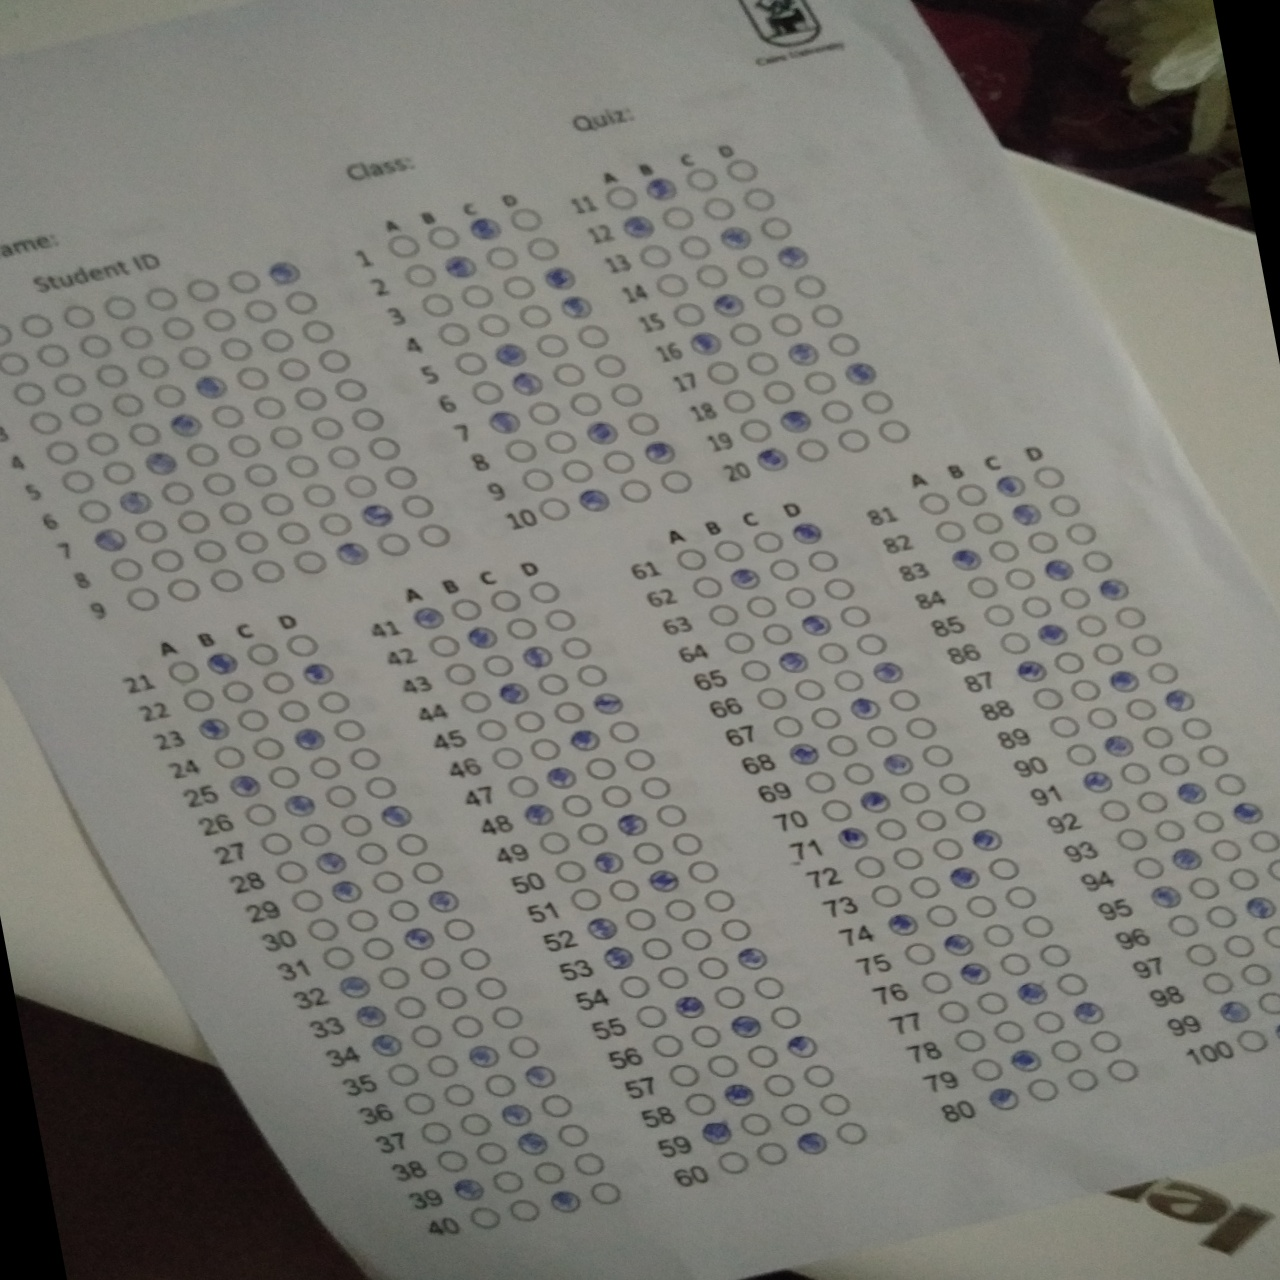not-c: (325, 444, 367, 474), (257, 491, 299, 520), (231, 529, 273, 558), (270, 858, 312, 887), (350, 839, 393, 869), (373, 964, 415, 993), (389, 993, 431, 1022), (572, 662, 614, 692), (422, 223, 464, 252), (383, 232, 425, 261), (738, 185, 781, 215), (767, 712, 809, 741), (886, 844, 928, 873), (915, 968, 958, 998), (988, 1017, 1030, 1047), (1028, 1008, 1070, 1037), (223, 268, 266, 297), (108, 392, 151, 420), (464, 1204, 508, 1232), (604, 877, 647, 905), (531, 670, 574, 699), (476, 652, 519, 680), (721, 157, 764, 185), (670, 545, 714, 573), (908, 806, 952, 835), (849, 853, 892, 881), (965, 1057, 1008, 1085), (290, 549, 331, 578), (282, 632, 324, 661), (433, 983, 474, 1013), (656, 203, 697, 232), (779, 584, 821, 613), (816, 796, 857, 825), (949, 797, 990, 826), (1023, 1076, 1064, 1105), (183, 277, 225, 305), (116, 324, 158, 352), (33, 342, 75, 370), (48, 370, 90, 399), (131, 353, 173, 381), (148, 382, 190, 410), (64, 400, 107, 428), (25, 410, 67, 438), (81, 429, 123, 457), (124, 421, 166, 449), (379, 464, 421, 492), (341, 474, 383, 502), (306, 414, 348, 442), (266, 424, 308, 452), (224, 431, 266, 459), (57, 469, 100, 497), (72, 498, 114, 526), (156, 479, 198, 508), (197, 471, 239, 499), (280, 452, 322, 481), (298, 481, 340, 509), (131, 518, 173, 546), (314, 510, 356, 538), (372, 531, 414, 559), (162, 576, 204, 604), (122, 585, 164, 613), (162, 658, 204, 686), (177, 687, 219, 715), (239, 801, 281, 829), (219, 679, 261, 707), (241, 641, 284, 669), (258, 669, 300, 697), (273, 697, 315, 726), (313, 688, 355, 716), (286, 887, 328, 915), (301, 915, 343, 944), (382, 897, 424, 925), (414, 955, 456, 983), (486, 1005, 529, 1033), (503, 1033, 545, 1061), (421, 1051, 463, 1080), (535, 1091, 577, 1119), (486, 1167, 529, 1196), (505, 1197, 547, 1225), (585, 1179, 627, 1207), (713, 1149, 755, 1177), (646, 1032, 688, 1060), (631, 1003, 673, 1032), (651, 965, 693, 993), (748, 975, 790, 1003), (741, 1043, 783, 1071), (659, 897, 701, 925), (635, 934, 678, 962), (621, 907, 663, 935), (627, 839, 669, 867), (557, 634, 599, 662), (509, 708, 551, 736), (456, 689, 498, 717), (535, 496, 577, 524), (624, 411, 666, 440), (572, 324, 614, 352), (433, 321, 475, 349), (472, 312, 515, 340), (457, 282, 499, 311), (416, 291, 458, 319), (399, 263, 441, 291), (481, 245, 523, 273), (505, 206, 547, 234), (674, 233, 716, 261), (806, 302, 849, 331), (734, 417, 776, 445), (857, 388, 899, 416), (832, 427, 874, 455), (763, 556, 805, 584), (687, 573, 729, 601), (702, 601, 744, 629), (717, 629, 760, 658), (850, 631, 892, 659), (751, 685, 794, 713), (821, 731, 863, 760), (837, 760, 879, 788), (871, 815, 913, 843), (904, 874, 946, 903), (971, 989, 1013, 1017), (1085, 1028, 1128, 1056), (1046, 1039, 1088, 1067), (1061, 1067, 1103, 1095), (1102, 1057, 1144, 1085), (967, 510, 1009, 538), (250, 736, 293, 763), (445, 1012, 489, 1039), (522, 579, 565, 606), (872, 418, 915, 445), (804, 704, 847, 731), (98, 295, 139, 324), (8, 380, 49, 408), (175, 343, 216, 372), (207, 402, 248, 430), (331, 377, 372, 406), (365, 435, 406, 463), (182, 441, 223, 469), (239, 462, 280, 490), (173, 509, 215, 537), (147, 547, 188, 576), (189, 538, 230, 566), (273, 520, 314, 549), (414, 522, 455, 550), (233, 707, 274, 735), (329, 717, 370, 745), (407, 859, 448, 887), (343, 908, 384, 937), (358, 935, 399, 964), (316, 945, 358, 973), (455, 946, 496, 974), (471, 975, 512, 1003), (433, 1148, 474, 1176), (529, 1159, 570, 1187), (709, 983, 750, 1012), (765, 1005, 806, 1033), (676, 926, 717, 954), (699, 887, 740, 915), (715, 915, 756, 944), (565, 886, 606, 914), (551, 858, 592, 886), (683, 858, 724, 886), (636, 774, 678, 802), (535, 829, 576, 857), (619, 747, 660, 775), (602, 719, 644, 747), (501, 614, 542, 642), (549, 697, 590, 726), (440, 660, 481, 688), (425, 633, 467, 661), (542, 430, 583, 458), (615, 477, 656, 505), (588, 353, 629, 381), (522, 236, 563, 264), (601, 184, 642, 212), (682, 166, 723, 195), (699, 195, 740, 223), (692, 261, 733, 290), (789, 274, 830, 302), (815, 397, 856, 425), (791, 437, 832, 465), (709, 537, 750, 565), (741, 593, 782, 621), (758, 621, 799, 649), (813, 640, 855, 668), (799, 769, 840, 797), (933, 769, 974, 797), (928, 836, 969, 864), (1035, 942, 1076, 971), (933, 999, 974, 1027), (948, 1027, 989, 1055), (1029, 464, 1070, 492), (57, 304, 100, 331), (139, 287, 182, 314), (74, 333, 116, 360), (297, 318, 339, 345), (314, 347, 356, 374), (231, 365, 273, 392), (40, 440, 82, 467), (290, 386, 332, 413), (345, 406, 387, 433), (397, 493, 440, 520), (215, 501, 257, 527), (207, 743, 250, 770), (343, 745, 386, 772), (361, 774, 403, 801), (321, 784, 363, 811), (304, 755, 346, 782), (368, 869, 410, 896), (438, 915, 481, 942), (382, 1061, 424, 1088), (415, 1121, 457, 1148), (471, 1141, 513, 1167), (568, 1151, 611, 1178), (614, 974, 656, 1001), (701, 1053, 743, 1080), (595, 783, 638, 810), (572, 821, 614, 847), (540, 607, 583, 634), (524, 736, 566, 763), (579, 755, 621, 782), (595, 449, 638, 476), (566, 392, 608, 418), (522, 399, 564, 425), (467, 380, 509, 407), (635, 241, 678, 268), (754, 215, 796, 241), (651, 271, 693, 298), (668, 301, 710, 328), (749, 282, 791, 309), (741, 350, 783, 377), (717, 389, 760, 416), (747, 530, 789, 557), (801, 549, 843, 576), (819, 576, 862, 602), (734, 658, 776, 685), (788, 676, 830, 703), (885, 687, 927, 714), (917, 744, 959, 771), (866, 884, 908, 911), (985, 855, 1027, 881), (1000, 884, 1042, 911), (899, 941, 941, 968), (978, 922, 1020, 949), (1016, 914, 1058, 941), (994, 952, 1036, 979), (951, 483, 993, 510), (692, 955, 731, 983), (515, 302, 554, 331), (1046, 492, 1085, 520), (281, 288, 322, 315), (241, 298, 282, 325), (200, 306, 241, 333), (159, 316, 200, 343), (91, 365, 132, 392), (215, 336, 256, 363), (257, 328, 298, 355), (273, 356, 314, 383), (248, 395, 290, 422), (97, 459, 138, 486), (105, 556, 147, 583), (248, 557, 290, 584), (206, 567, 247, 594), (256, 832, 297, 859), (295, 822, 336, 849), (264, 764, 305, 791), (336, 813, 377, 840), (392, 830, 433, 857), (406, 1023, 447, 1050), (399, 1090, 440, 1117), (438, 1082, 479, 1109), (481, 1073, 522, 1099), (454, 1111, 495, 1138), (552, 1122, 593, 1149), (751, 1141, 792, 1167), (735, 1112, 776, 1139), (679, 1091, 720, 1118), (663, 1062, 704, 1089), (685, 1024, 726, 1051), (799, 1063, 840, 1090), (813, 1091, 855, 1118), (775, 1102, 816, 1129), (830, 1121, 871, 1148), (666, 831, 707, 858), (651, 802, 692, 829), (556, 792, 597, 819), (485, 588, 526, 615), (485, 745, 526, 772), (472, 716, 513, 743), (445, 597, 486, 624), (502, 772, 543, 799), (517, 467, 558, 493), (502, 438, 543, 465), (556, 457, 597, 484), (655, 468, 696, 495), (607, 382, 648, 409), (549, 362, 590, 389), (533, 332, 574, 359), (451, 350, 492, 377), (498, 275, 539, 302), (731, 252, 772, 279), (765, 312, 806, 339), (726, 321, 767, 348), (701, 359, 742, 386), (823, 331, 864, 358), (799, 369, 840, 396), (758, 379, 799, 406), (835, 602, 876, 629), (828, 667, 869, 694), (900, 714, 941, 741), (860, 724, 901, 751), (896, 779, 937, 806), (960, 894, 1001, 921), (922, 904, 964, 931), (1051, 972, 1092, 999), (913, 491, 954, 518), (930, 519, 971, 546), (18, 313, 57, 340), (760, 1073, 799, 1099), (1126, 632, 1166, 659), (1065, 678, 1105, 704), (1211, 771, 1251, 798), (1189, 809, 1228, 836), (1207, 837, 1247, 864), (1197, 971, 1237, 998), (1001, 566, 1040, 593), (964, 574, 1002, 601), (979, 602, 1017, 629), (1016, 593, 1055, 620), (1054, 584, 1092, 611), (1111, 604, 1150, 631), (1073, 612, 1111, 639), (996, 629, 1035, 656), (1088, 641, 1126, 668), (1155, 751, 1193, 778), (1133, 790, 1172, 817), (1096, 798, 1135, 825), (1150, 818, 1189, 845), (1129, 855, 1167, 881), (1184, 874, 1223, 901), (983, 539, 1023, 565), (1193, 744, 1233, 770), (1201, 904, 1241, 930), (1237, 964, 1276, 989), (1078, 549, 1116, 576), (1062, 742, 1099, 769), (1117, 760, 1155, 787), (1233, 1027, 1271, 1054), (1024, 530, 1063, 556), (1049, 651, 1088, 676), (1144, 660, 1183, 686), (1029, 687, 1068, 713), (1044, 715, 1083, 741), (1121, 697, 1159, 723), (1137, 726, 1176, 751), (1224, 867, 1262, 893), (1163, 914, 1201, 940), (1182, 942, 1220, 968), (1220, 934, 1259, 960), (1062, 520, 1099, 546), (1083, 706, 1121, 731), (1178, 716, 1216, 742), (1114, 826, 1151, 852), (1246, 829, 1280, 856), (1, 350, 34, 377), (1254, 989, 1280, 1016), (1, 321, 18, 348)
taken-c: (981, 1085, 1024, 1114), (573, 486, 615, 515), (751, 445, 794, 474), (695, 1121, 738, 1148), (408, 605, 451, 632), (164, 413, 206, 440), (298, 661, 340, 688), (287, 726, 329, 753), (423, 888, 465, 915), (399, 926, 441, 953), (333, 974, 375, 1001), (449, 1177, 491, 1204), (545, 1189, 587, 1216), (731, 946, 774, 973), (597, 946, 639, 973), (588, 849, 631, 876), (540, 765, 583, 792), (563, 727, 605, 754), (587, 692, 629, 719), (493, 680, 536, 707), (517, 644, 559, 670), (540, 266, 583, 293), (440, 254, 482, 281), (465, 217, 508, 244), (796, 611, 838, 638), (855, 788, 897, 815), (967, 826, 1009, 853), (955, 960, 998, 987), (1012, 981, 1054, 1008), (1068, 1000, 1110, 1027), (1006, 1048, 1048, 1075), (1213, 998, 1255, 1024), (1077, 769, 1119, 796), (1039, 556, 1081, 583), (223, 774, 266, 799), (495, 1103, 538, 1129), (483, 410, 526, 436), (640, 177, 683, 203), (139, 451, 181, 478), (114, 489, 155, 516), (89, 527, 130, 554), (332, 542, 373, 568), (358, 502, 399, 529), (200, 651, 241, 678), (279, 794, 320, 821), (326, 878, 367, 905), (366, 1032, 407, 1058), (644, 869, 685, 896), (463, 624, 504, 651), (617, 215, 658, 241), (772, 245, 813, 272), (685, 331, 726, 358), (776, 409, 817, 436), (878, 751, 919, 778), (1228, 801, 1269, 828), (1171, 779, 1212, 806), (1032, 622, 1073, 649), (1094, 577, 1135, 604), (192, 716, 234, 742), (463, 1043, 505, 1069), (791, 1131, 833, 1157), (720, 1082, 762, 1108), (783, 1033, 825, 1058), (612, 813, 654, 839), (518, 803, 560, 829), (639, 442, 681, 468), (489, 342, 531, 368), (554, 295, 597, 321), (839, 361, 881, 387), (787, 520, 829, 546), (867, 659, 910, 685), (783, 741, 825, 767), (883, 912, 925, 938), (1166, 846, 1208, 872), (1104, 669, 1146, 695), (946, 547, 988, 573), (1007, 502, 1049, 527), (990, 474, 1033, 499), (583, 915, 622, 942), (726, 565, 765, 592), (264, 259, 305, 285), (377, 803, 418, 829), (309, 851, 350, 877), (349, 1003, 390, 1029), (520, 1064, 561, 1090), (670, 995, 712, 1021), (583, 421, 624, 447), (508, 372, 549, 397), (715, 226, 756, 252), (774, 649, 815, 675), (845, 695, 886, 721), (832, 824, 873, 850), (945, 865, 986, 891), (938, 931, 979, 956), (1145, 883, 1186, 908), (1099, 734, 1141, 760), (1160, 687, 1201, 713), (1012, 659, 1053, 685), (190, 376, 232, 401), (708, 293, 750, 318), (515, 1131, 554, 1157), (726, 1013, 765, 1039), (1240, 896, 1280, 921), (783, 342, 824, 367)
